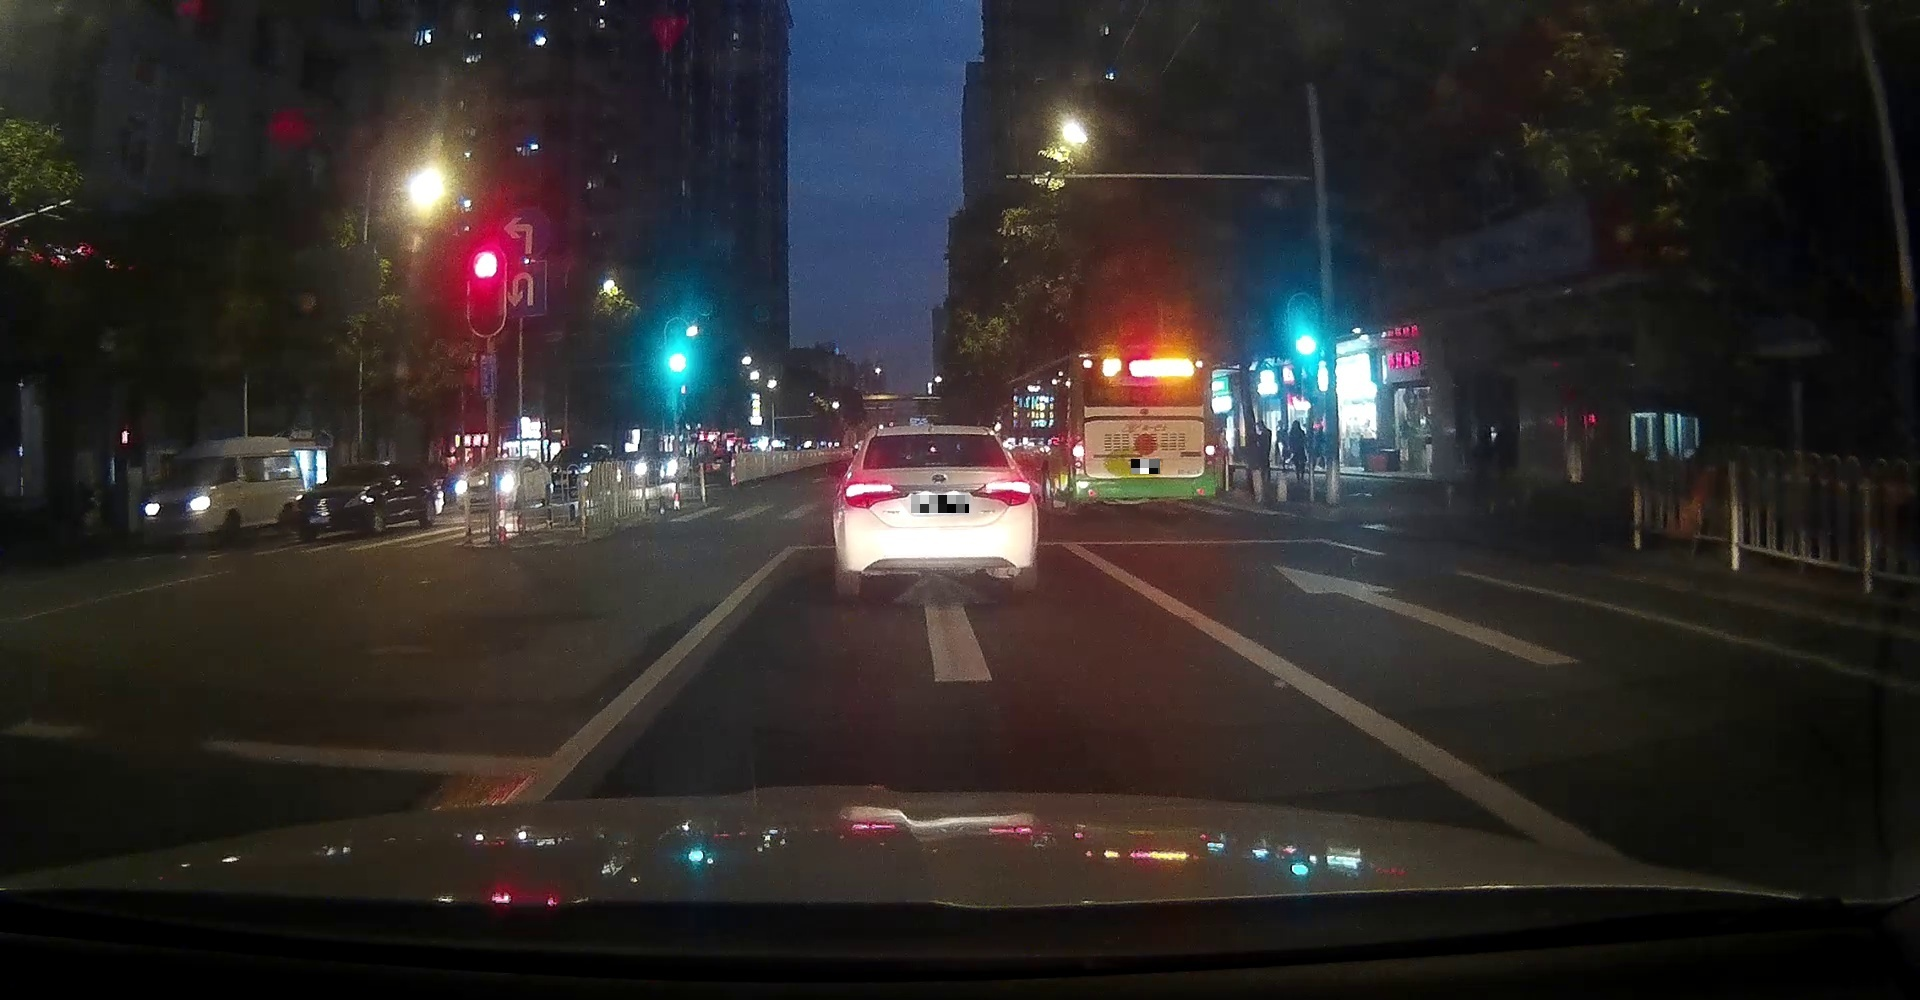L_light: (842, 478, 910, 510), (1073, 434, 1084, 470)
R_light: (970, 475, 1031, 508), (1204, 433, 1217, 466)
T_light: (923, 459, 947, 467), (1131, 354, 1149, 359)
night-no: (836, 425, 1039, 598), (1072, 346, 1217, 511)
plate_1: (910, 495, 969, 513)
plate_2: (1131, 459, 1161, 475)
